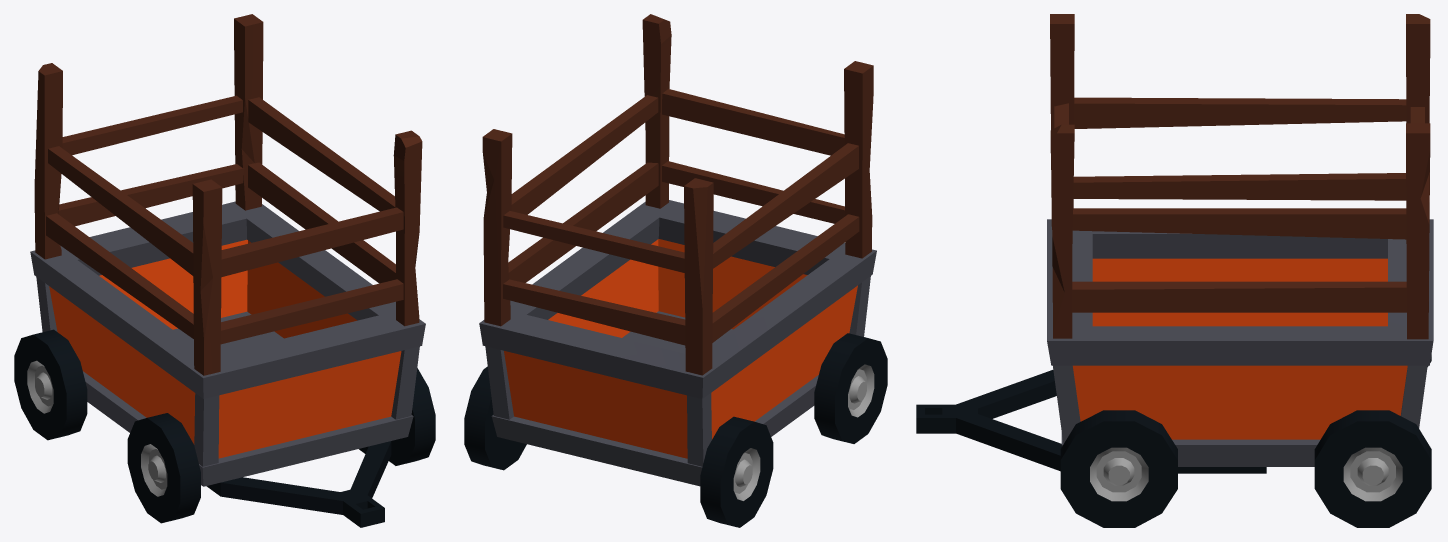
The model's file is Trailer_3.fbx.
The picture shows the model from 3 angles, left to right: view 1: azimuth 30°, elevation 25°; view 2: azimuth 150°, elevation 25°; view 3: azimuth 270°, elevation 25°; orthographic projection. The views are drawn at different scales.
Parts seen in each view (by area): view 1: Trailer_3; view 2: Trailer_3; view 3: Trailer_3.
Part boxes in pixels (x1,y1,x2,y2): Trailer_3: [14, 14, 435, 527]; Trailer_3: [464, 14, 887, 527]; Trailer_3: [916, 14, 1433, 527].
Size of the model in its own units: 61.67 by 78.8 by 95.93.
